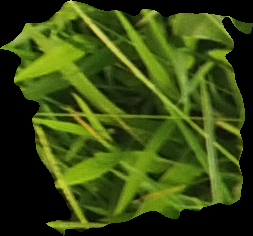grass: (1, 1, 251, 235)
